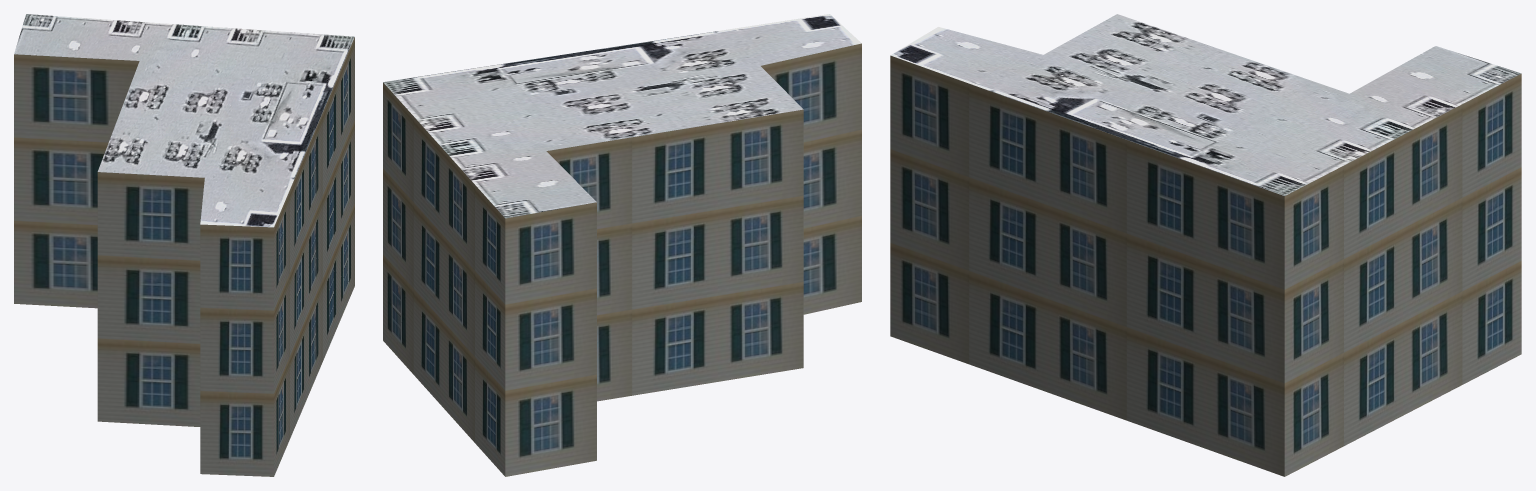
File: ResTex__1231.fbx
3 renders of one model, left to right at view 1: azimuth 30°, elevation 25°; view 2: azimuth 150°, elevation 25°; view 3: azimuth 270°, elevation 25°, orthographic. The views are drawn at different scales.
Parts seen in each view (by area): view 1: CityEngineMaterial_7_m, CityEngineMaterial_8_m; view 2: CityEngineMaterial_7_m, CityEngineMaterial_8_m; view 3: CityEngineMaterial_7_m, CityEngineMaterial_8_m.
Part boxes in pixels (box(x1,y1,x2,y2)): CityEngineMaterial_7_m: box(14, 37, 354, 476); CityEngineMaterial_8_m: box(14, 14, 354, 227); CityEngineMaterial_7_m: box(383, 43, 861, 476); CityEngineMaterial_8_m: box(383, 14, 861, 218); CityEngineMaterial_7_m: box(890, 55, 1521, 476); CityEngineMaterial_8_m: box(890, 14, 1521, 195).
Bounding box in the file's own units: 12.52 × 9 × 18.34.
2 materials, 2 textured.
